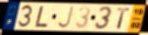3: (74, 5, 92, 31), (94, 6, 113, 30), (17, 4, 35, 29)
J: (57, 6, 75, 30)
L: (34, 6, 49, 29)
T: (116, 7, 131, 30)
